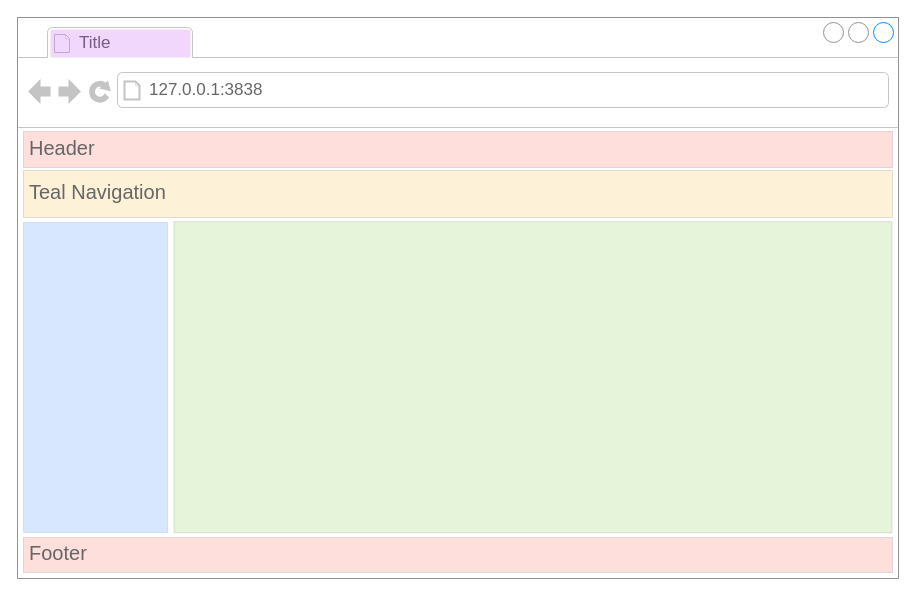
Image size: 916x596. Some labels were removed from this diagram. The shapes that lost their labels are listed below. From the top down, each one's centre as x and y in pixels, then its label:
At point 95,377: "Filter Panel".
At point 532,361: "Active Module Content".
